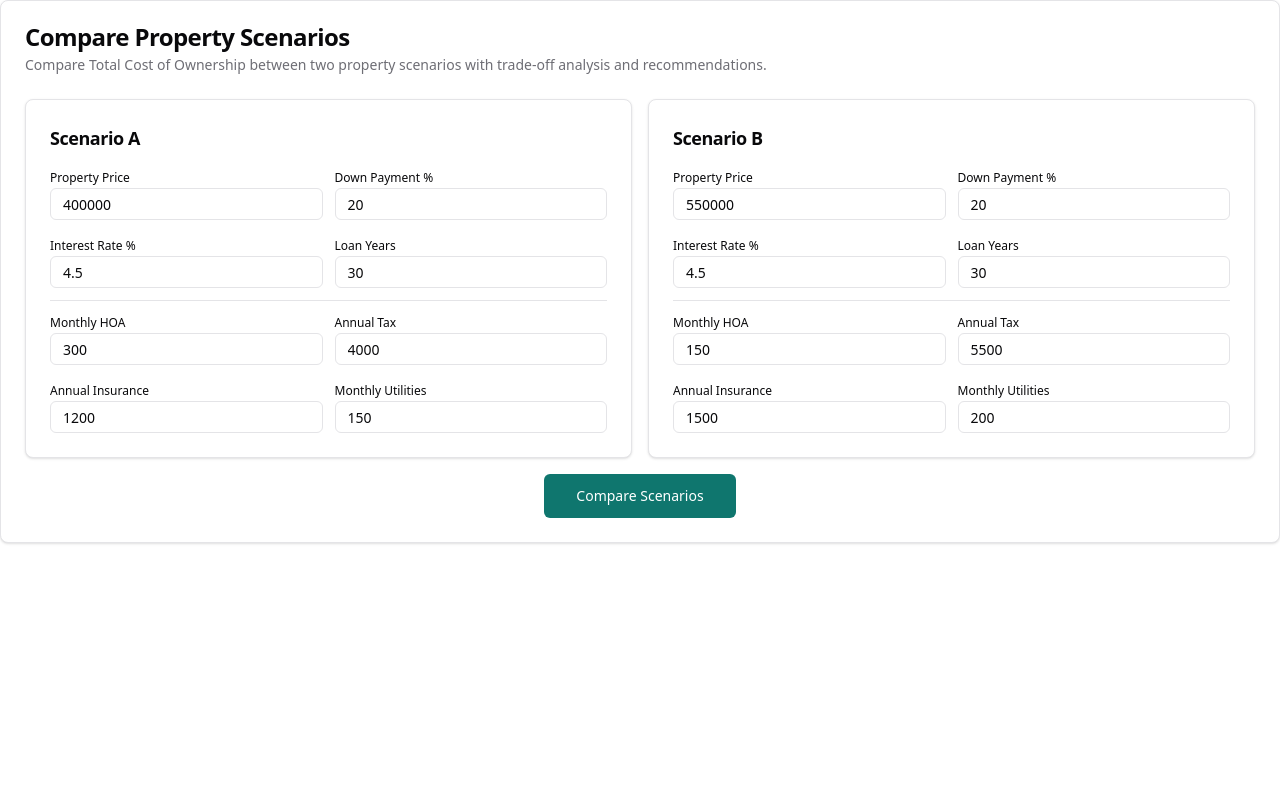
TCOComparison › prints a negative difference with the sign outside the currency symbol
Click the button "Compare Scenarios" at {"x": 640, "y": 496}, box [544, 474, 736, 518]
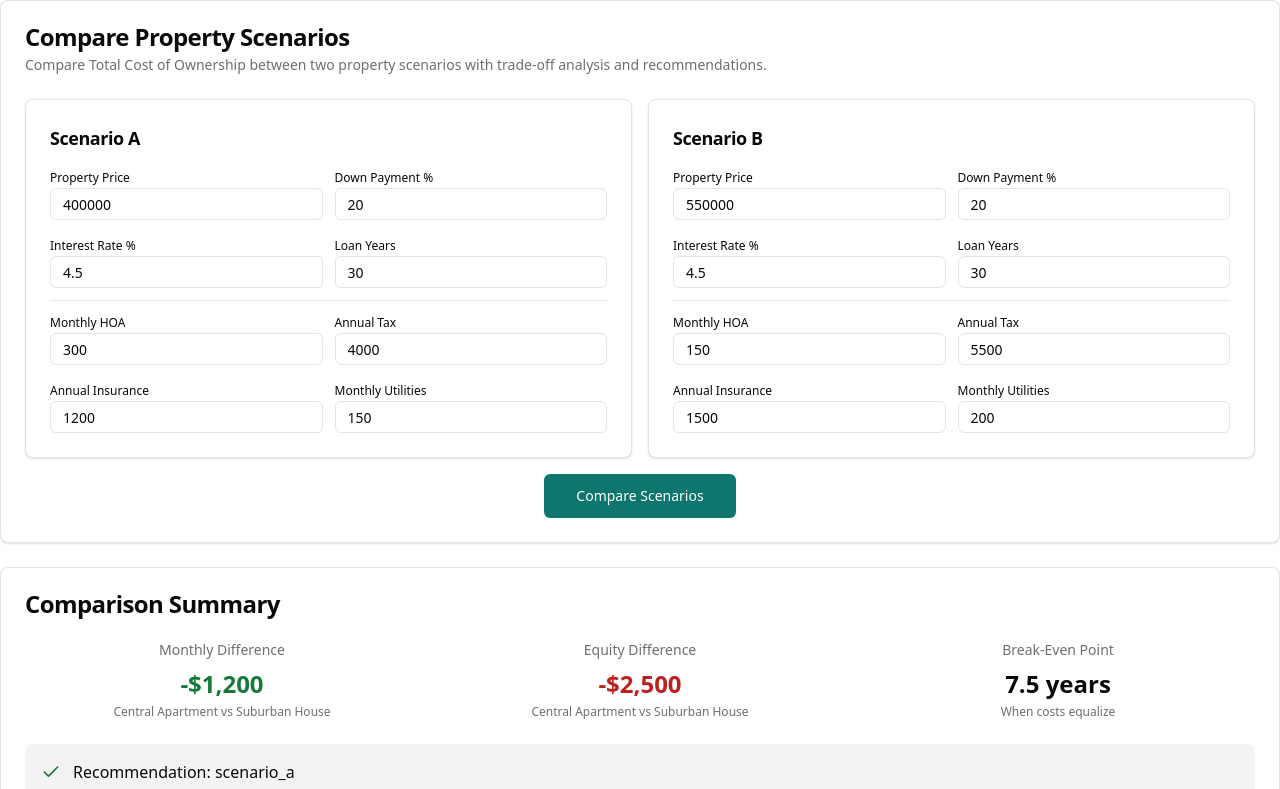
Now the heading "Comparison Summary" is shown, box [25, 587, 280, 620]
Now the text "-$1,200" is shown, box [180, 667, 264, 700]
Now the text "-$2,500" is shown, box [598, 667, 682, 700]
